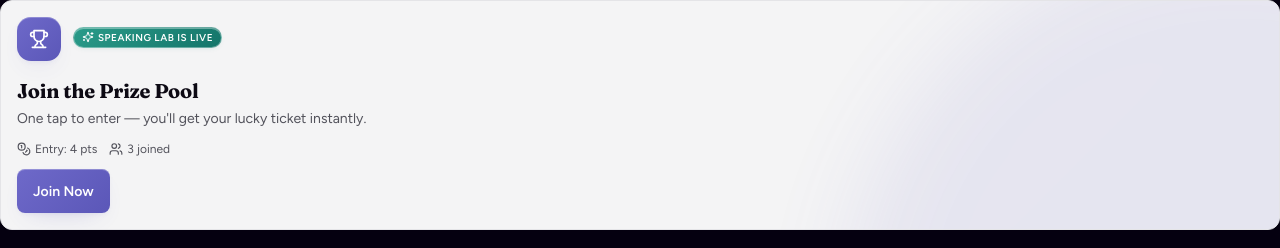
Test: SpeakingLabLiveCard — one-tap live card › an ambiguous join outcome resolves via active-session instead of re-charging
Step 1. Click the button with test id "speaking-lab-join-now" → (63, 191), box top-left (17, 169), bottom-right (110, 213)
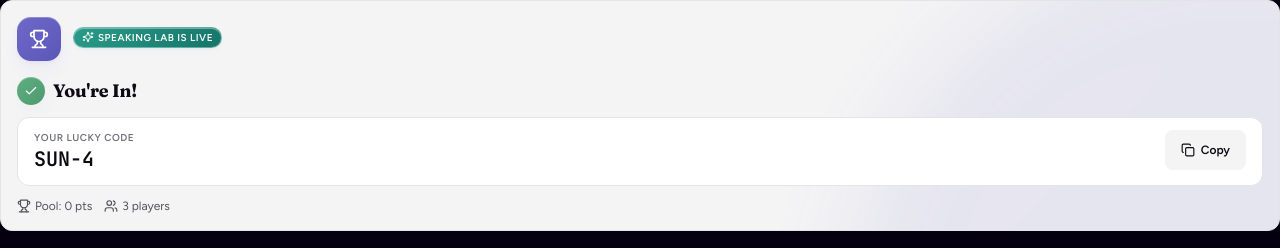
Result: the text with test id "speaking-lab-live-code" reads "SUN-4" at top-left (34, 146), bottom-right (94, 172)
